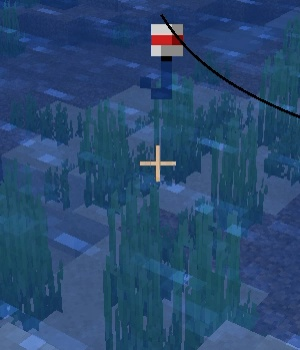up: (148, 14, 194, 105)
